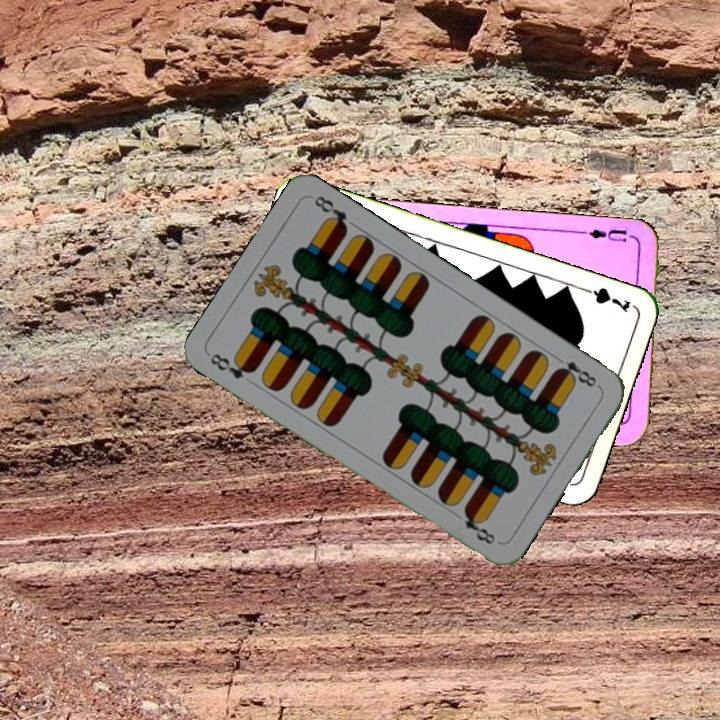E8: (550, 352, 602, 391), (205, 349, 258, 382)
EU: (579, 225, 629, 245)
G7: (576, 283, 633, 316)
